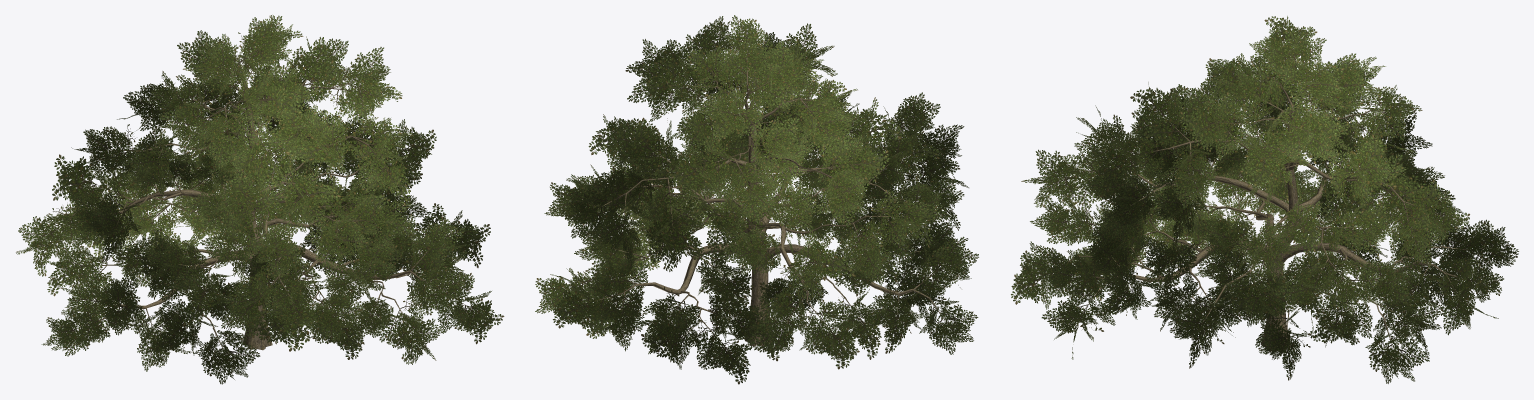
File: prop_tree_oak.fbx
The picture shows the model from 3 angles, left to right: view 1: azimuth 30°, elevation 25°; view 2: azimuth 150°, elevation 25°; view 3: azimuth 270°, elevation 25°; orthographic projection.
Parts seen in each view (by area): view 1: tree_canopy_mesh, tree_wood_mesh; view 2: tree_canopy_mesh, tree_wood_mesh; view 3: tree_canopy_mesh, tree_wood_mesh.
Part boxes in pixels (box(x1,y1,x2,y2)): tree_canopy_mesh: box(16, 15, 504, 384); tree_wood_mesh: box(50, 45, 469, 353); tree_canopy_mesh: box(535, 15, 978, 384); tree_wood_mesh: box(580, 47, 946, 346); tree_canopy_mesh: box(1011, 16, 1518, 383); tree_wood_mesh: box(1063, 54, 1478, 349).
Bounding box in the file's own units: 1205 × 911 × 1288.
